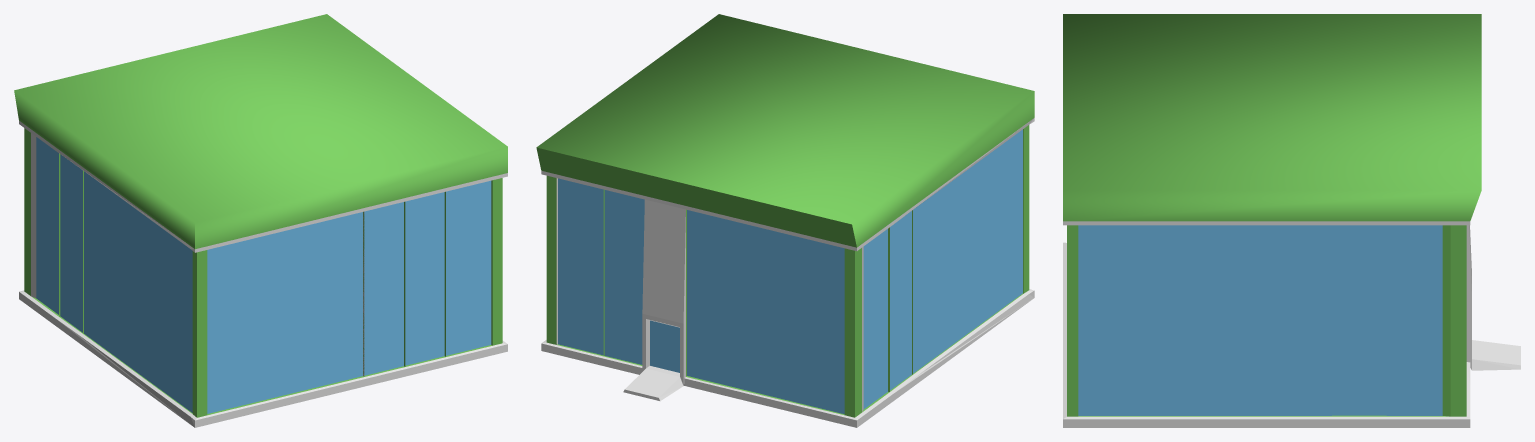
The model's file is Shop8x8x5Green.fbx.
The picture shows the model from 3 angles, left to right: view 1: azimuth 30°, elevation 25°; view 2: azimuth 150°, elevation 25°; view 3: azimuth 270°, elevation 25°; orthographic projection. The views are drawn at different scales.
Parts seen in each view (by area): view 1: Shop.001; view 2: Shop.001; view 3: Shop.001.
Part boxes in pixels (x1,y1,x2,y2): Shop.001: (14, 14, 507, 427); Shop.001: (536, 14, 1034, 427); Shop.001: (1063, 14, 1520, 427).
Bounding box in the file's own units: 7.96 × 4.99 × 8.72.
Materials: 1 (1 with a texture image).
